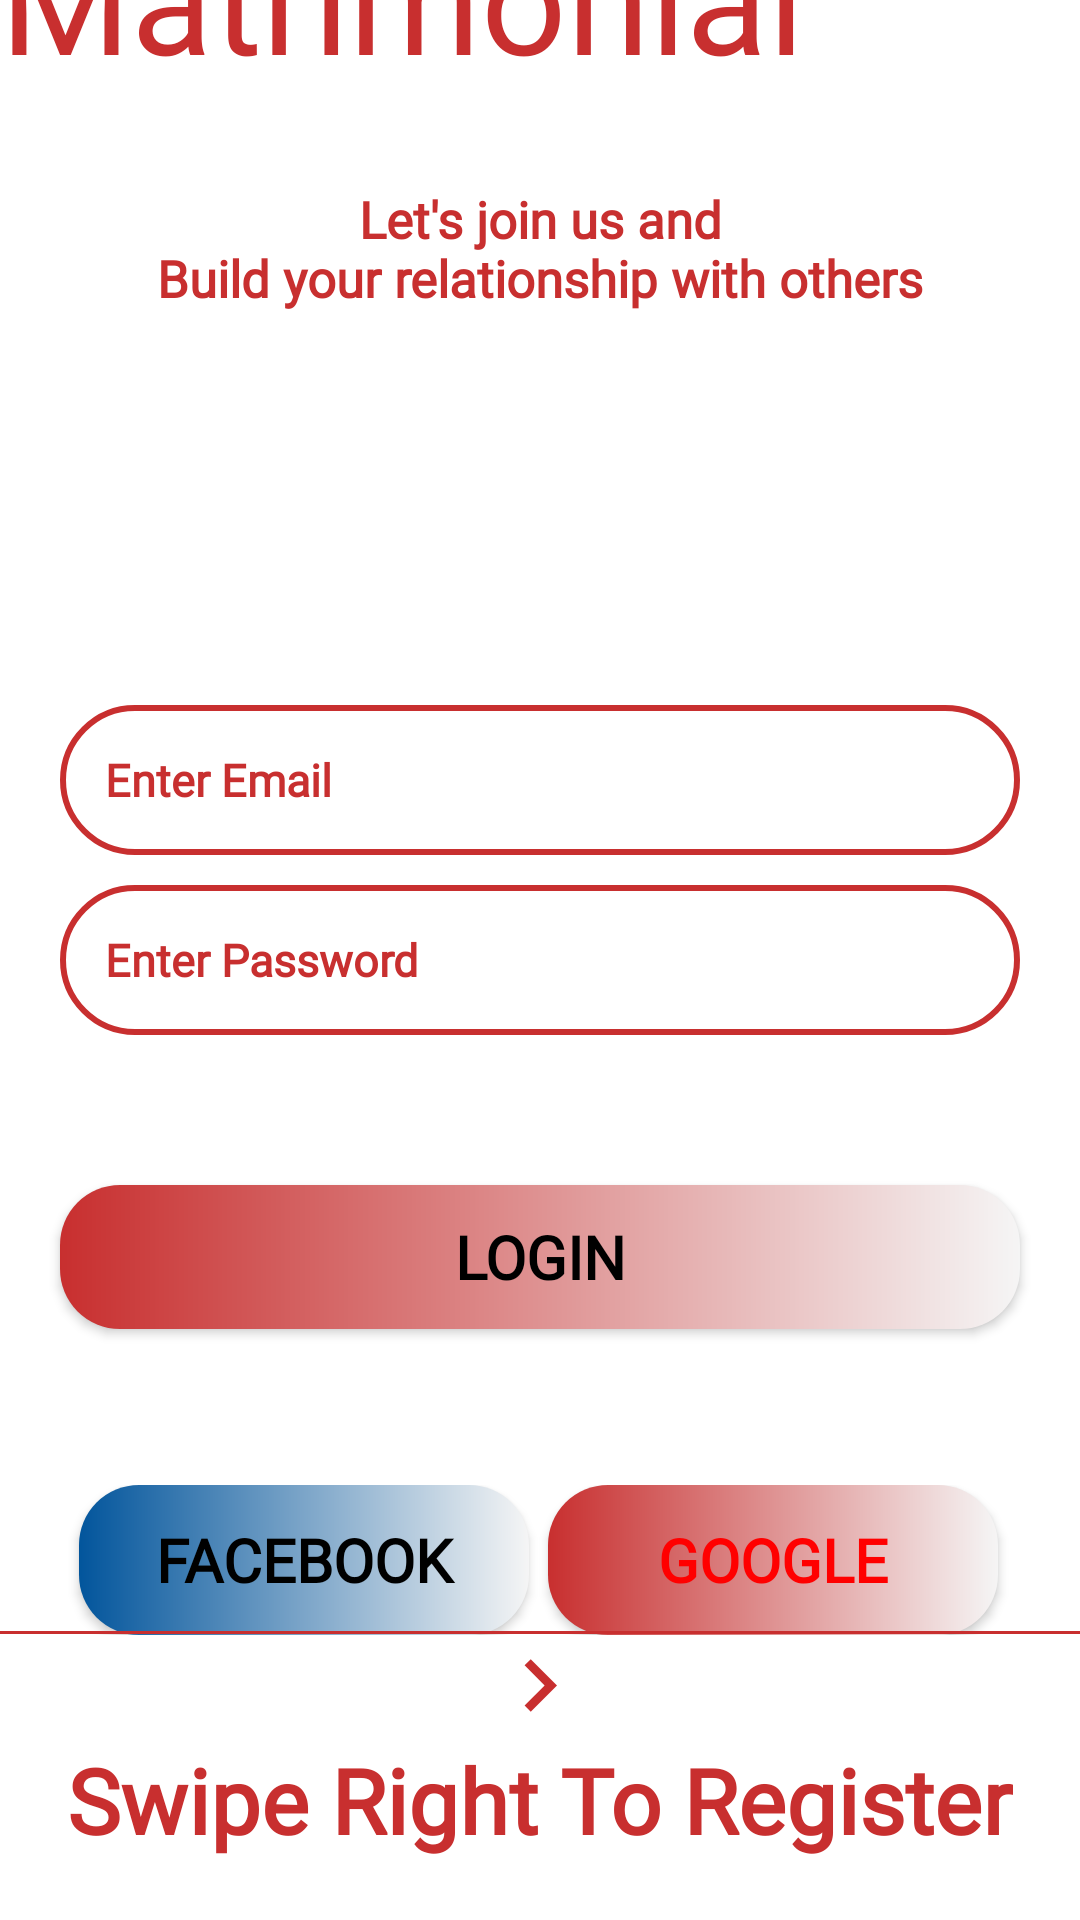

Where icons sit on this 1080px x 1920px app screen, as bbox(x1, y1, x2, y2):
arrow right: bbox(524, 1659, 557, 1712)
